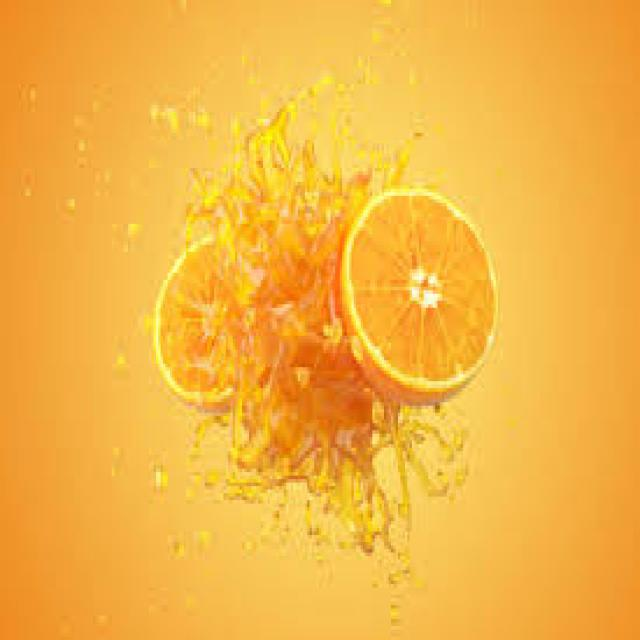orange: (345, 182, 502, 402)
